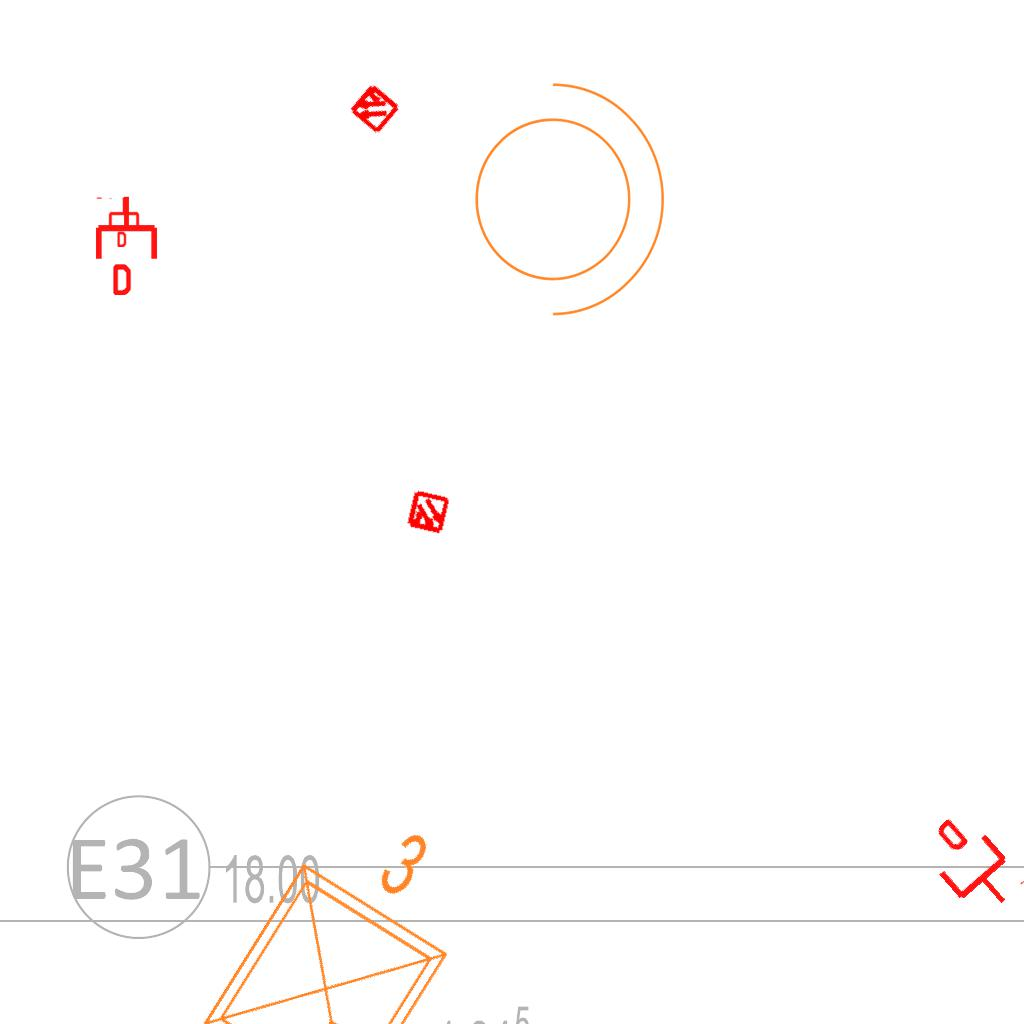Datenanschluss_einfach: (912, 804, 1024, 926), (92, 195, 161, 295), (107, 197, 141, 247)
Einbaudownlights_LED_Konferenzraeume: (176, 769, 512, 1024)
OT_Multisensormelder_(Kombination_RMO_WMD): (334, 68, 414, 148), (394, 479, 462, 547)
Scheinwerfer_fuer_Alarmbeleuchtung: (450, 61, 675, 325)
